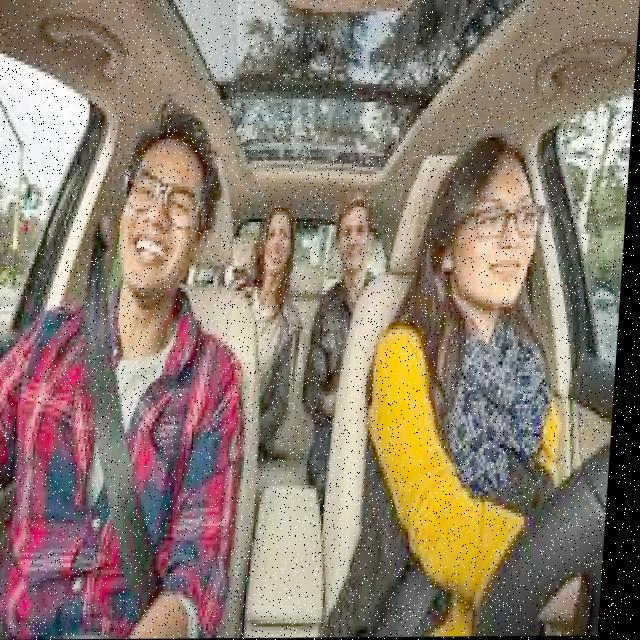noSeatbelt: (356, 292, 548, 638)
seatbelt: (42, 280, 216, 640)
